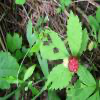Raspberry leaf: (43, 63, 76, 91), (66, 8, 83, 57)
